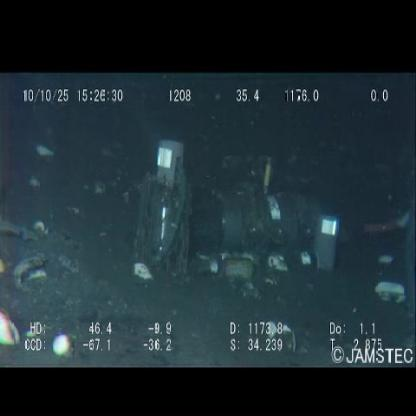Rov: (133, 134, 343, 280)
Rác: (208, 255, 256, 281)
